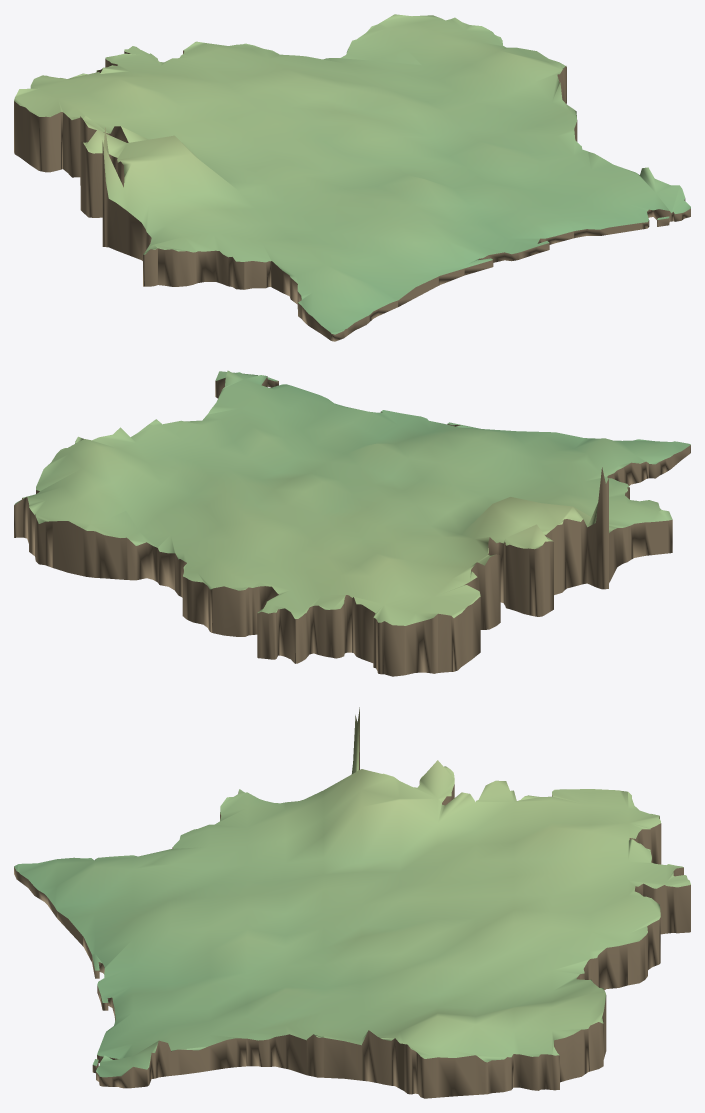
Rendered from CIV.glb.
The picture shows the model from 3 angles, top to bottom: view 1: azimuth 30°, elevation 25°; view 2: azimuth 150°, elevation 25°; view 3: azimuth 270°, elevation 25°; orthographic projection. The views are drawn at different scales.
Visible parts, largest first — view 1: CIV; view 2: CIV; view 3: CIV.
Boxes of the visible parts, box(x1,y1,x2,y2) form: CIV: box(14, 14, 690, 341); CIV: box(14, 370, 690, 676); CIV: box(14, 707, 690, 1098).
Bounding box in the file's own units: 1.52 × 0.338 × 1.6.
